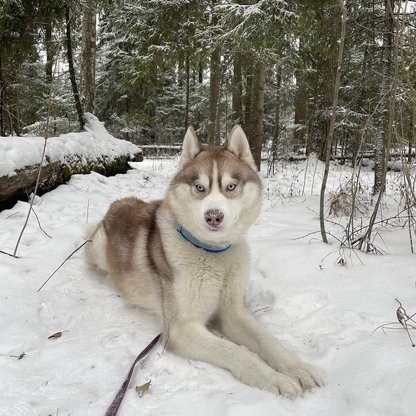husky: (78, 119, 329, 406)
